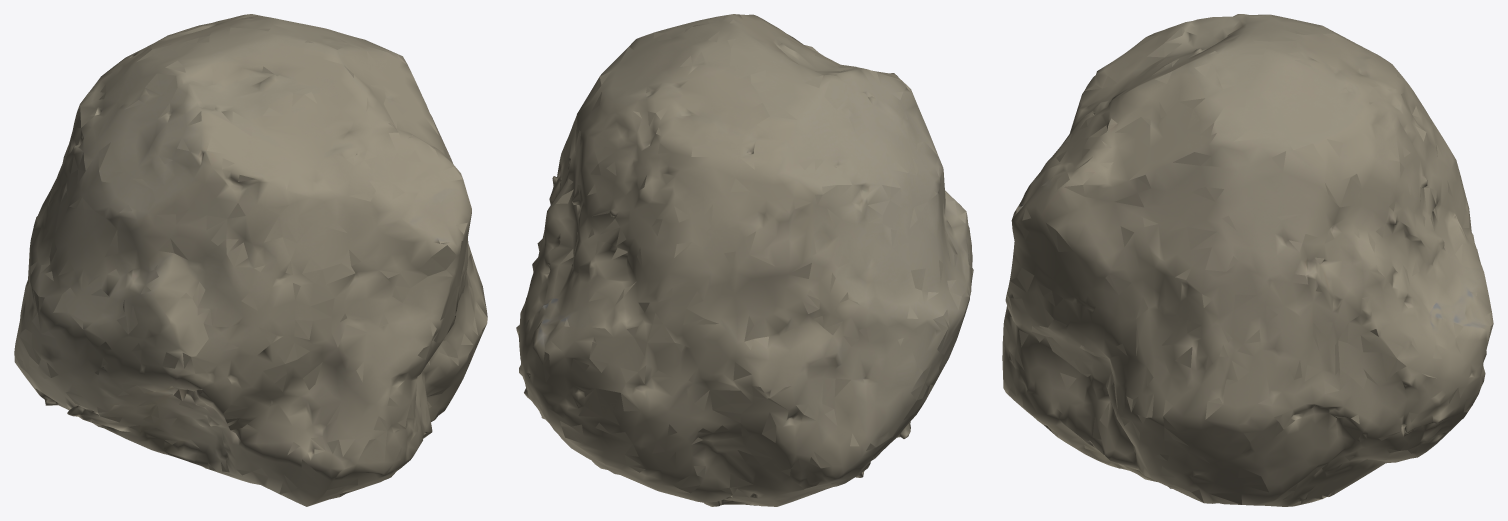
3 views of the same model, side by side, from view 1: azimuth 30°, elevation 25°; view 2: azimuth 150°, elevation 25°; view 3: azimuth 270°, elevation 25° (orthographic).
Parts seen in each view (by area): view 1: tripo_node_96865c70; view 2: tripo_node_96865c70; view 3: tripo_node_96865c70.
Part boxes in pixels (<box>): tripo_node_96865c70: <box>14,14,487,506</box>; tripo_node_96865c70: <box>516,14,973,506</box>; tripo_node_96865c70: <box>1002,14,1493,506</box>.
Size of the model in its own units: 195 by 197 by 200.
1 material, 1 textured.
